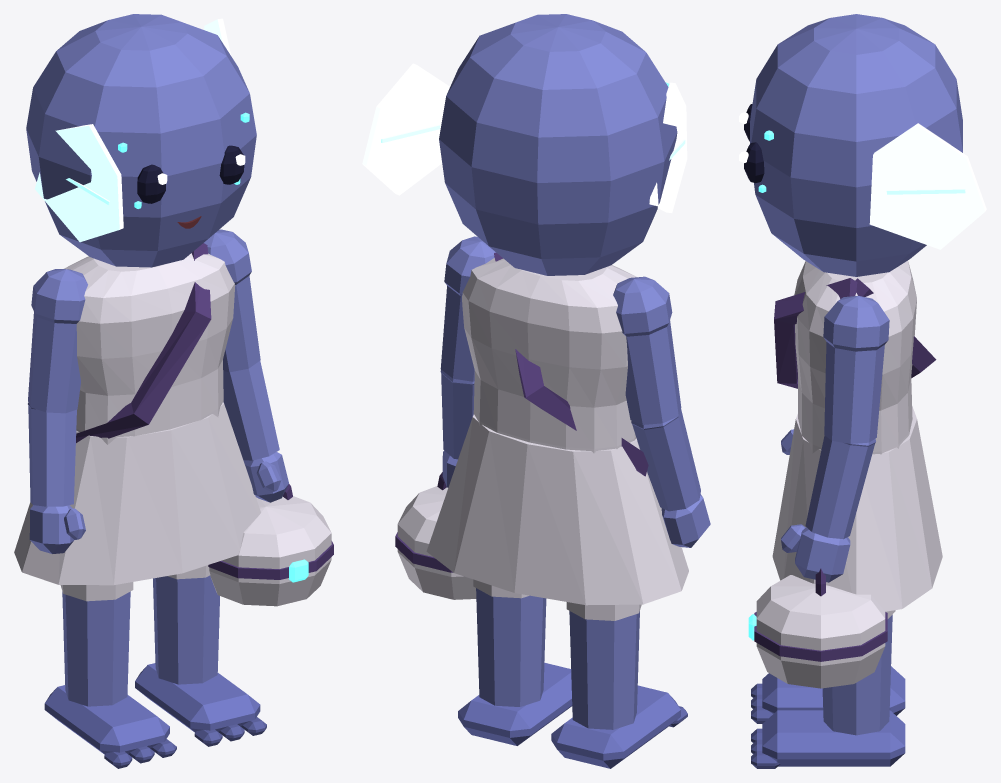
Rendered from aby-k2.glb.
3 views of the same model, side by side, from view 1: azimuth 30°, elevation 25°; view 2: azimuth 150°, elevation 25°; view 3: azimuth 270°, elevation 25° (orthographic). The views are drawn at different scales.
Parts seen in each view (by area): view 1: kopf, rock, torso, arm_r, gegenstand_pearlbox, bein_r, arm_l, bein_l, flossenohren, schuh_l, schuh_r, schärpe (+3 smaller); view 2: kopf, rock, torso, arm_r, flossenohren, bein_r, bein_l, arm_l, schuh_r, gegenstand_pearlbox, schuh_l, schärpe (+1 smaller); view 3: kopf, rock, arm_l, gegenstand_pearlbox, torso, flossenohren, schuh_l, bein_l, schärpe, schuh_r, hand_l, gesicht.
Boxes of the visible parts, left/top/right/bottom form: kopf: left=26, top=14, right=256, bottom=267; rock: left=14, top=402, right=260, bottom=585; torso: left=64, top=253, right=235, bottom=444; arm_r: left=28, top=269, right=87, bottom=506; gegenstand_pearlbox: left=208, top=484, right=333, bottom=606; bein_r: left=60, top=582, right=133, bottom=706; arm_l: left=204, top=229, right=279, bottom=460; bein_l: left=153, top=565, right=219, bottom=684; flossenohren: left=35, top=18, right=231, bottom=242; schuh_l: left=135, top=663, right=266, bottom=746; schuh_r: left=44, top=685, right=176, bottom=768; schärpe: left=76, top=243, right=211, bottom=442; kopf: left=439, top=14, right=677, bottom=275; rock: left=426, top=414, right=688, bottom=605; torso: left=462, top=258, right=636, bottom=453; arm_r: left=613, top=276, right=700, bottom=511; flossenohren: left=362, top=63, right=687, bottom=212; bein_r: left=566, top=602, right=641, bottom=729; bein_l: left=473, top=579, right=546, bottom=706; arm_l: left=440, top=236, right=495, bottom=459; schuh_r: left=551, top=685, right=687, bottom=768; gegenstand_pearlbox: left=395, top=472, right=476, bottom=599; schuh_l: left=458, top=662, right=572, bottom=745; schärpe: left=494, top=252, right=648, bottom=476; kopf: left=750, top=14, right=962, bottom=276; rock: left=772, top=405, right=942, bottom=611; arm_l: left=805, top=295, right=889, bottom=539; gegenstand_pearlbox: left=748, top=568, right=887, bottom=688; torso: left=794, top=260, right=916, bottom=454; flossenohren: left=754, top=88, right=986, bottom=249; schuh_l: left=751, top=710, right=905, bottom=768; bein_l: left=822, top=610, right=895, bottom=735; schärpe: left=774, top=278, right=936, bottom=388; schuh_r: left=751, top=666, right=905, bottom=723; hand_l: left=781, top=524, right=850, bottom=582; gesicht: left=739, top=104, right=764, bottom=183.
Size of the model in its own units: 0.0108 by 0.0245 by 0.00782.
